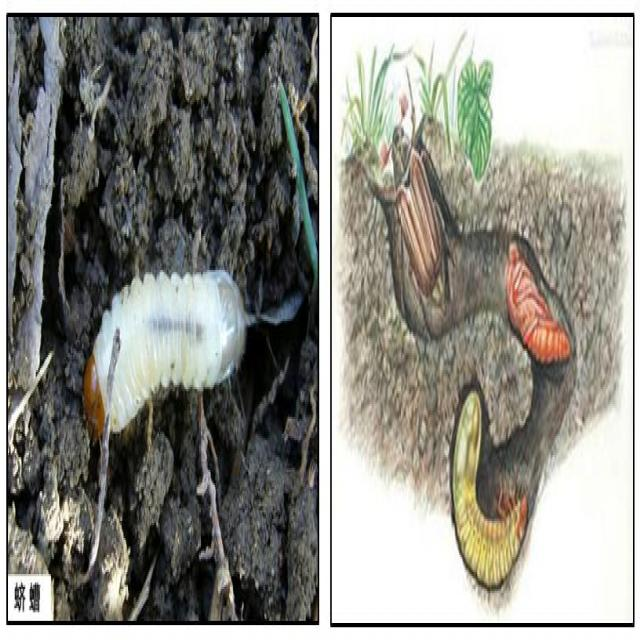Grub-Adult-: (78, 226, 247, 459)
